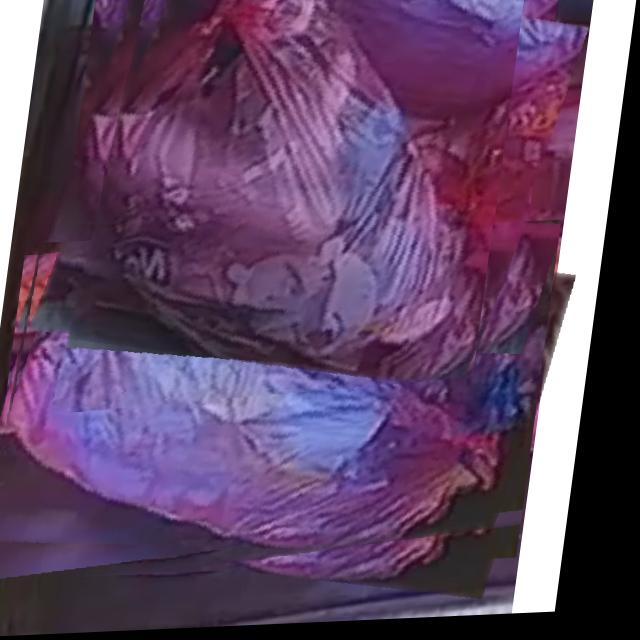other_trashbag: (18, 235, 557, 557), (110, 0, 490, 389)
